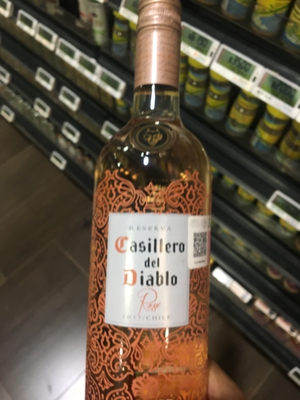casillero del diablo rose: (81, 27, 219, 400)
